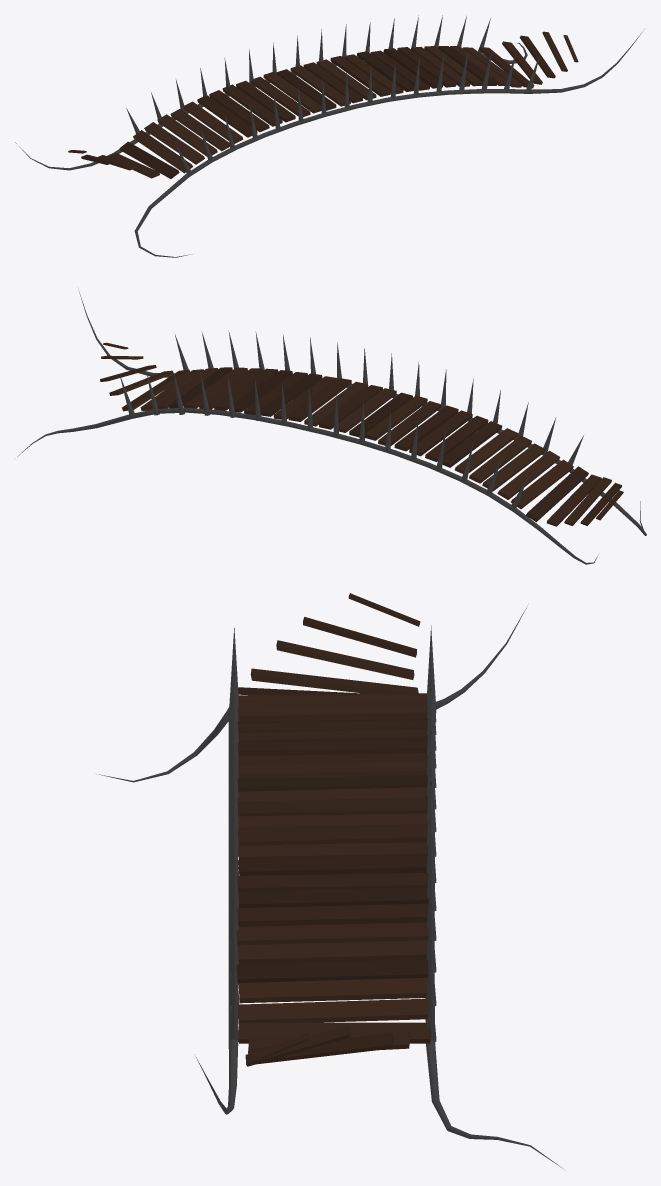
The model's file is WoodBridge.glb.
3 views of the same model, one above another, from view 1: azimuth 30°, elevation 25°; view 2: azimuth 150°, elevation 25°; view 3: azimuth 270°, elevation 25° (orthographic). The views are drawn at different scales.
Parts seen in each view (by area): view 1: Bridge; view 2: Bridge; view 3: Bridge.
Boxes of the visible parts, box(x1,y1,x2,y2) form: Bridge: box(15, 15, 644, 257); Bridge: box(17, 290, 646, 564); Bridge: box(96, 593, 564, 1169).
Bounding box in the file's own units: 16.05 × 3.43 × 6.01.
1 material, 1 textured.
